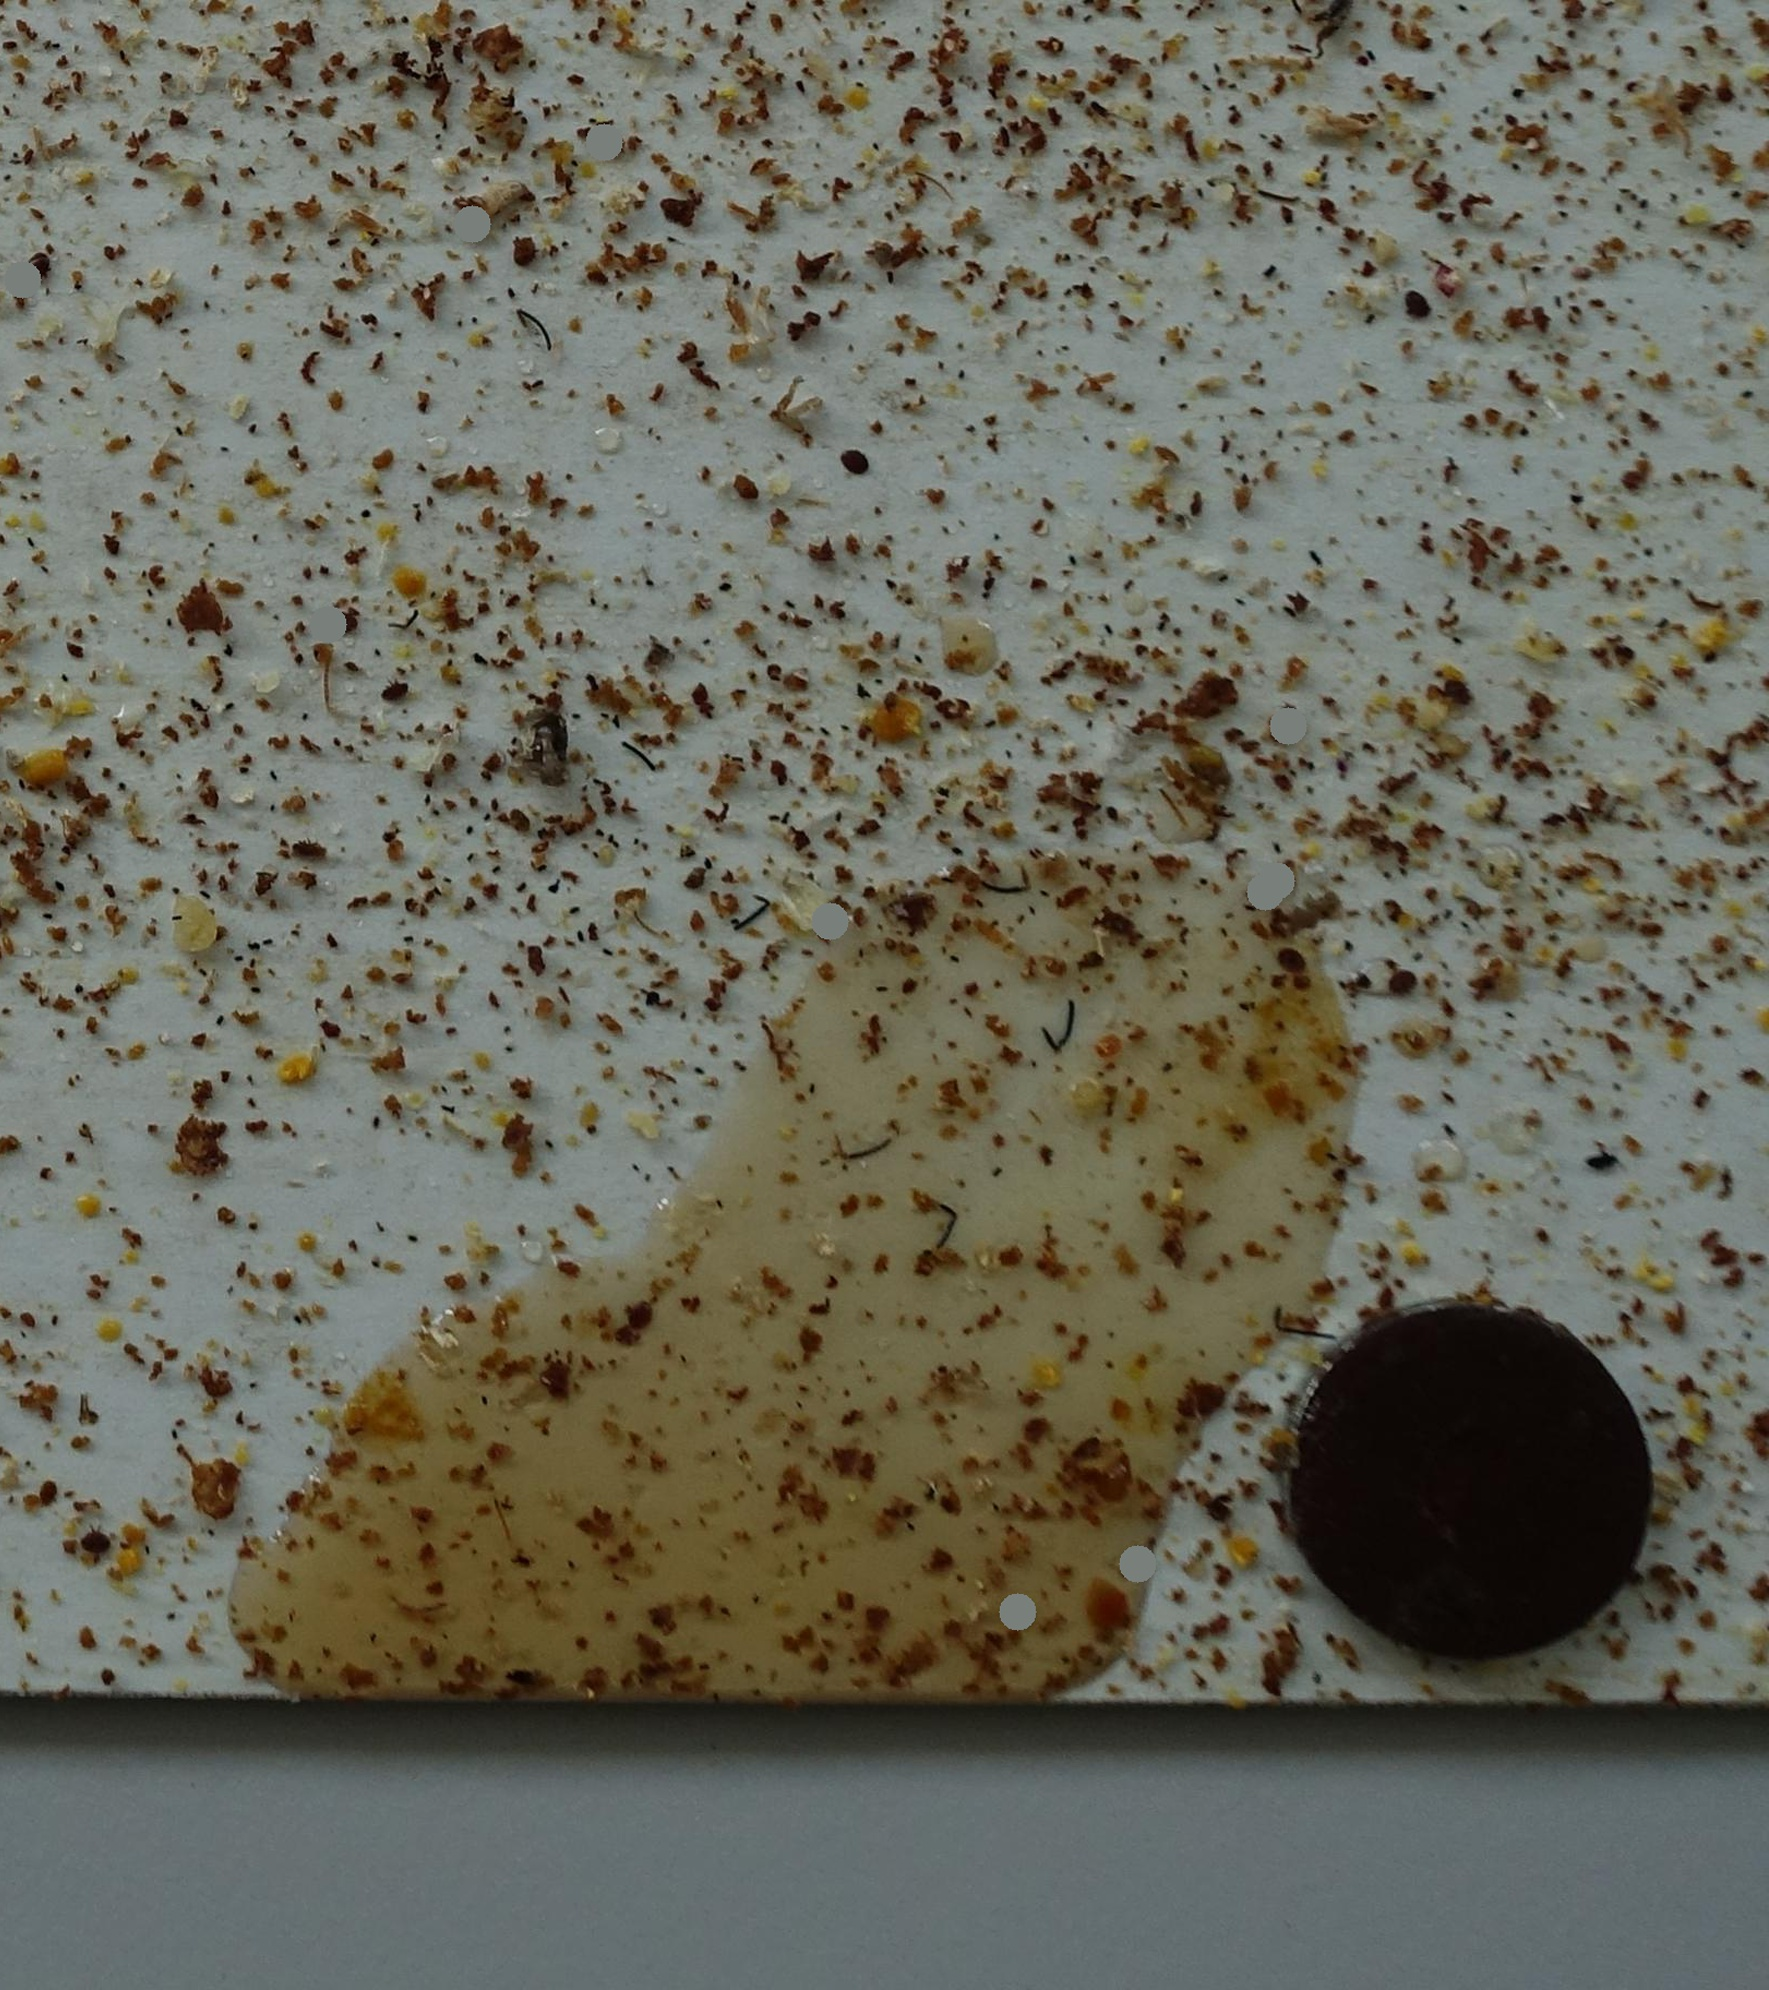Varroa: (285, 828, 326, 868), (1270, 945, 1299, 974), (511, 239, 540, 268), (623, 1305, 651, 1336), (1402, 292, 1429, 321), (844, 449, 869, 477), (84, 1532, 109, 1560), (1388, 970, 1414, 998), (335, 601, 362, 625), (382, 678, 406, 705), (26, 256, 48, 280)
